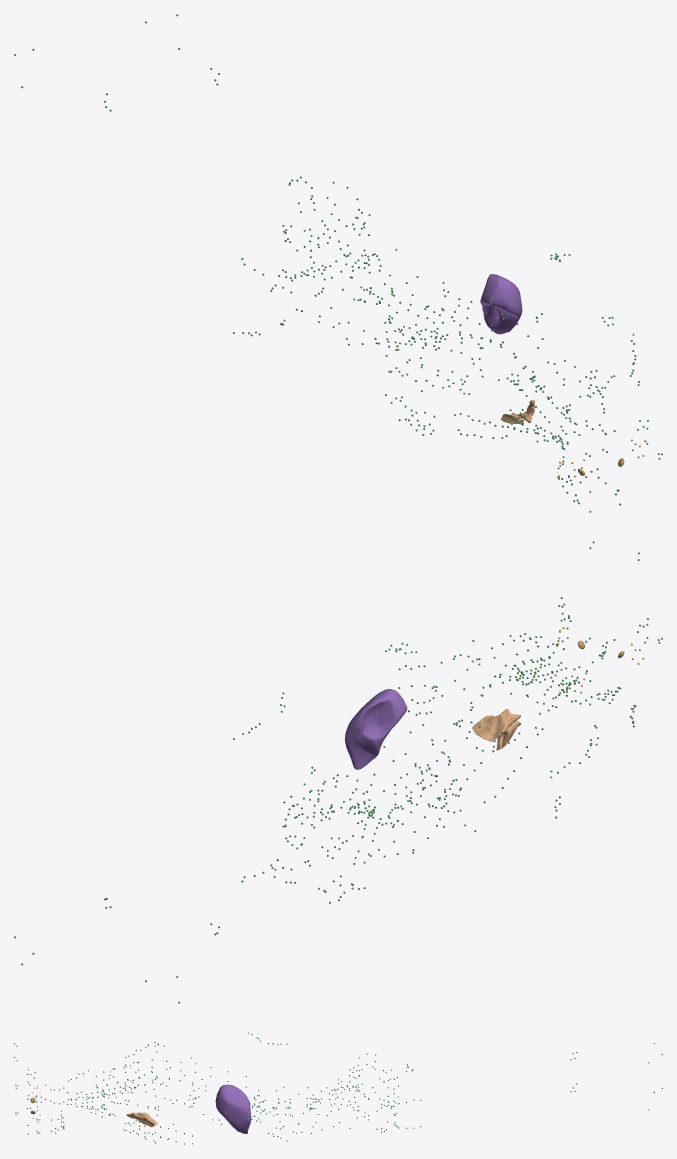
The model's file is lymphatic.glb.
The picture shows the model from 3 angles, top to bottom: view 1: azimuth 30°, elevation 25°; view 2: azimuth 150°, elevation 25°; view 3: azimuth 270°, elevation 25°; orthographic projection. The views are drawn at different scales.
Visible parts, largest first — view 1: 脾; view 2: 脾, 胸腺左叶; view 3: 脾.
Part boxes in pixels (x1,y1,x2,y2): 脾: (480, 274, 522, 334); 脾: (345, 689, 407, 769); 胸腺左叶: (472, 709, 520, 741); 脾: (215, 1084, 251, 1133).
Bounding box in the file's own units: 0.6666 × 0.2894 × 1.88.
